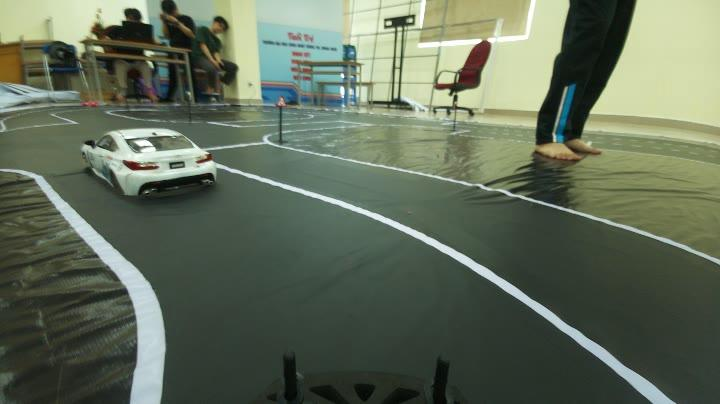car: (72, 124, 228, 203)
